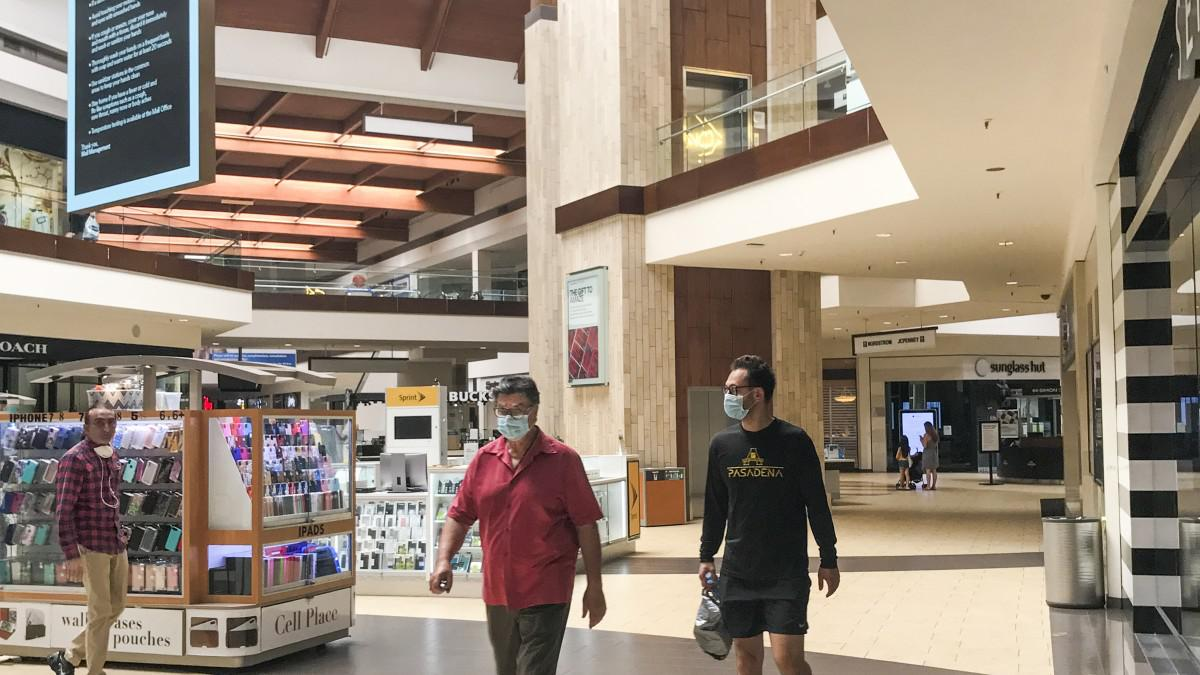Person: (430, 375, 607, 675), (700, 353, 839, 675), (47, 406, 130, 675), (919, 420, 940, 488), (895, 434, 913, 488)
